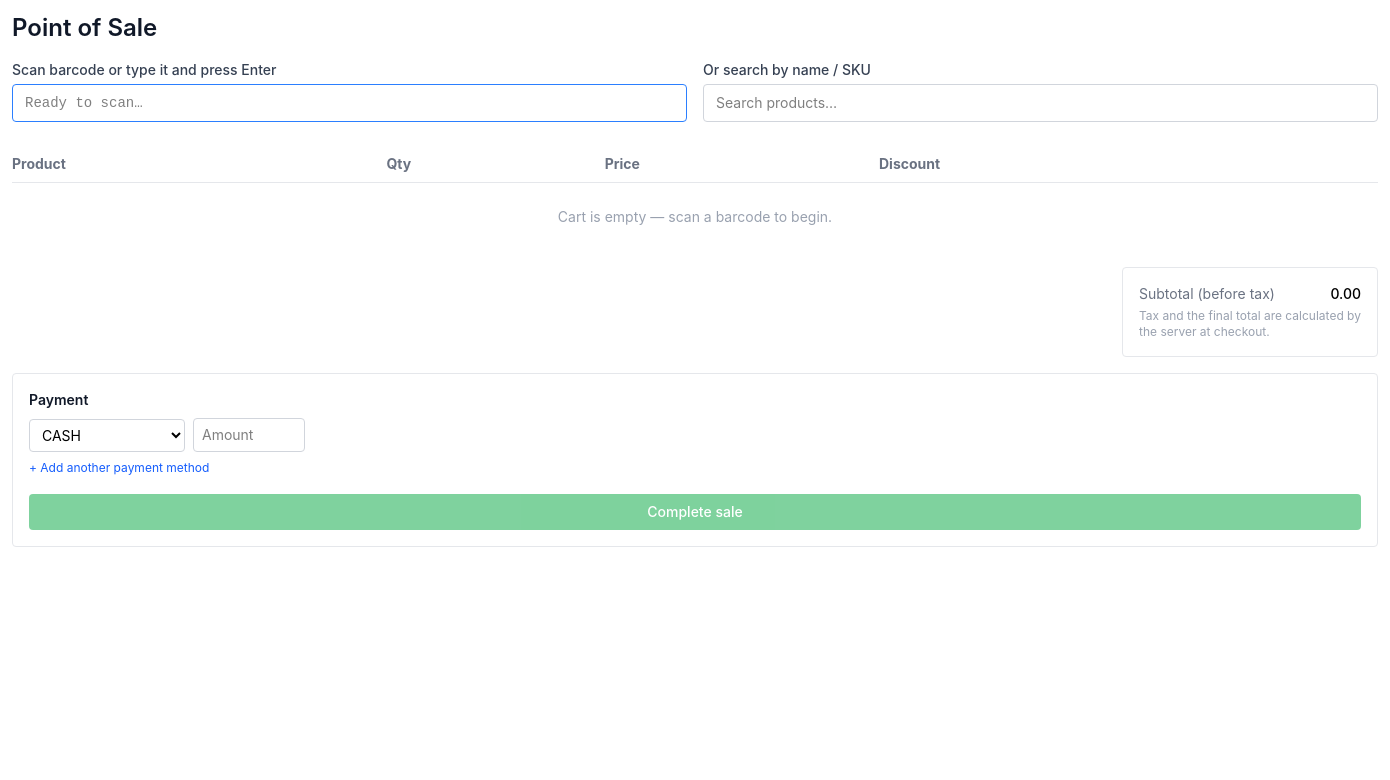
Test: PosPage › completes checkout and shows a receipt
The width and height of the screenshot is (1390, 780).
In the field with placeholder "Ready to scan…": [350, 103] box [12,84,687,122], type "333"
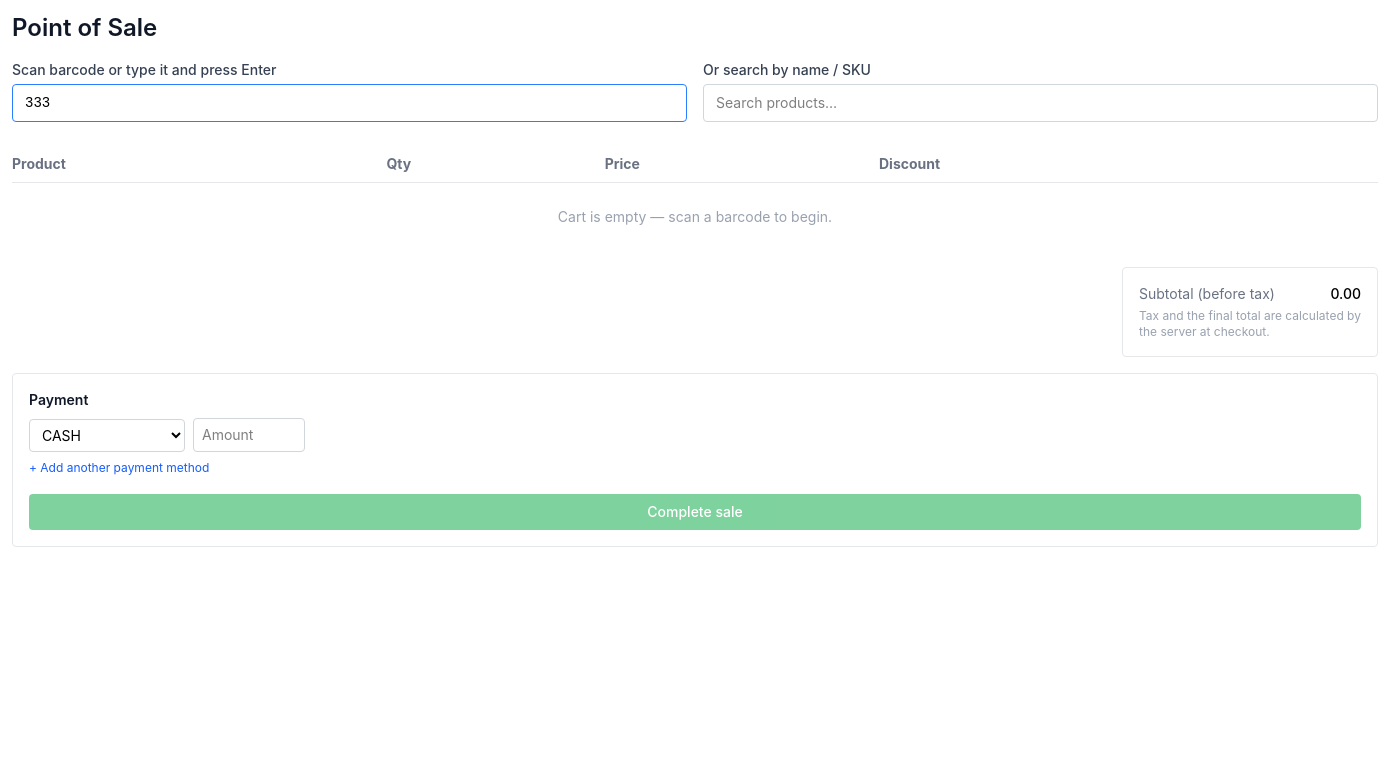
Press Enter in the field with placeholder "Ready to scan…", box [12,84,687,122]
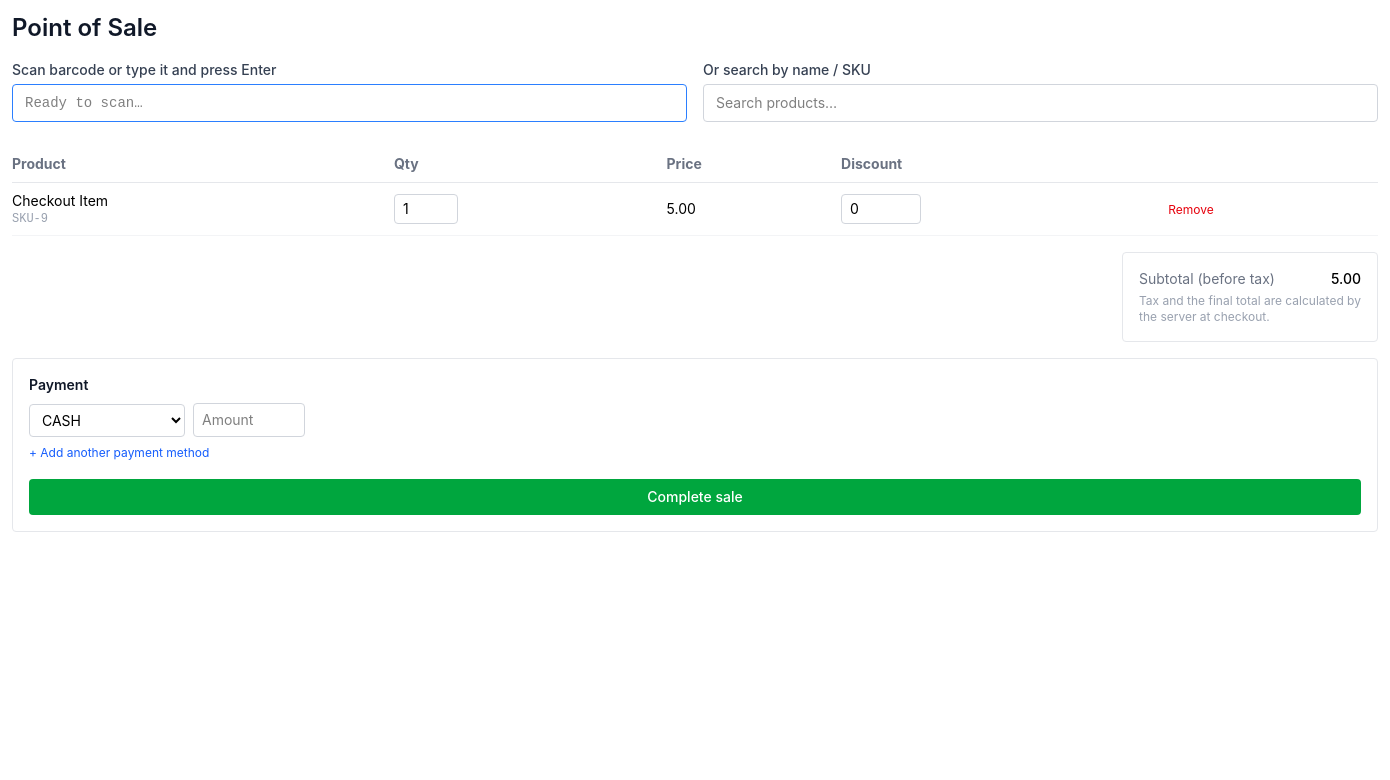
Expected: the text "Checkout Item" is shown, [12,192,108,209]
In the field with placeholder "Amount": [249, 420] box [193,403,305,437], type "5.00"
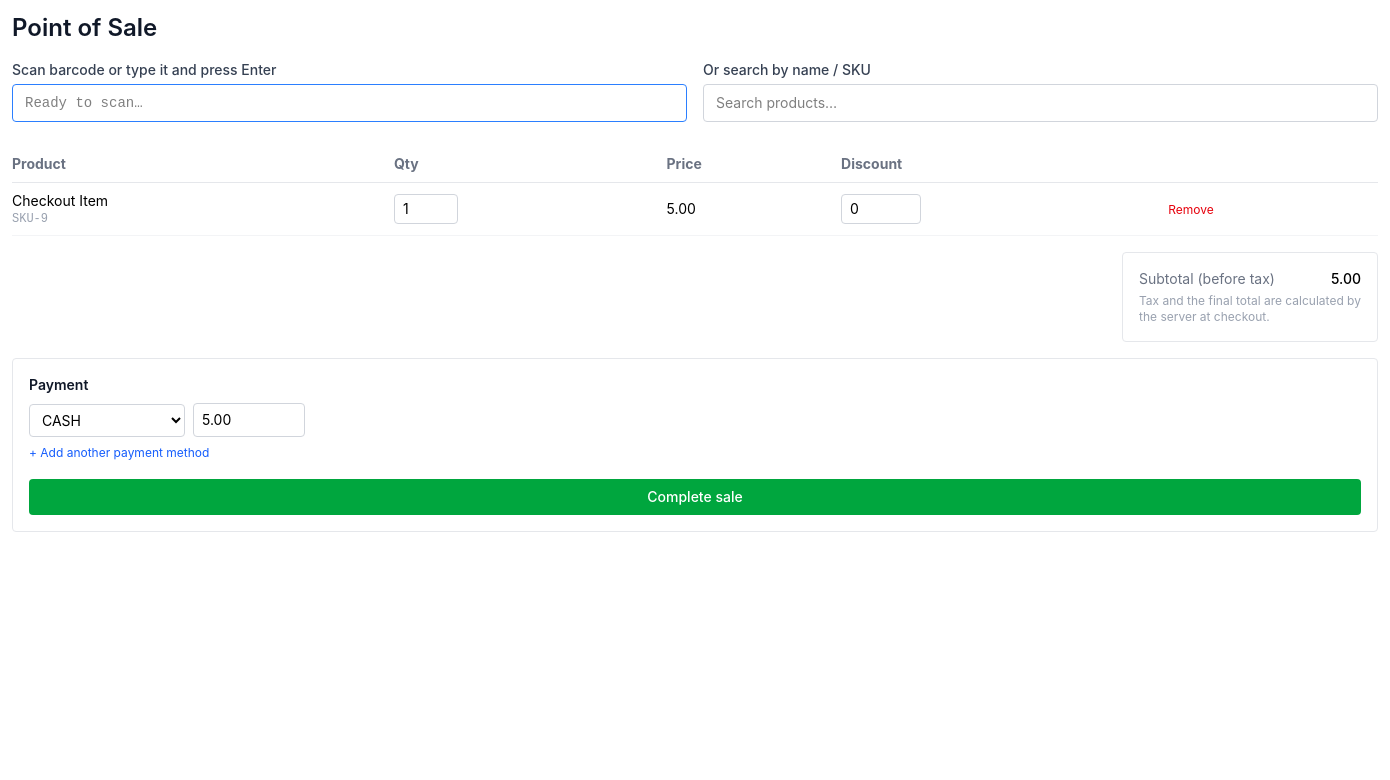
Click the button "Complete sale": [695, 497] box [29,479,1361,515]
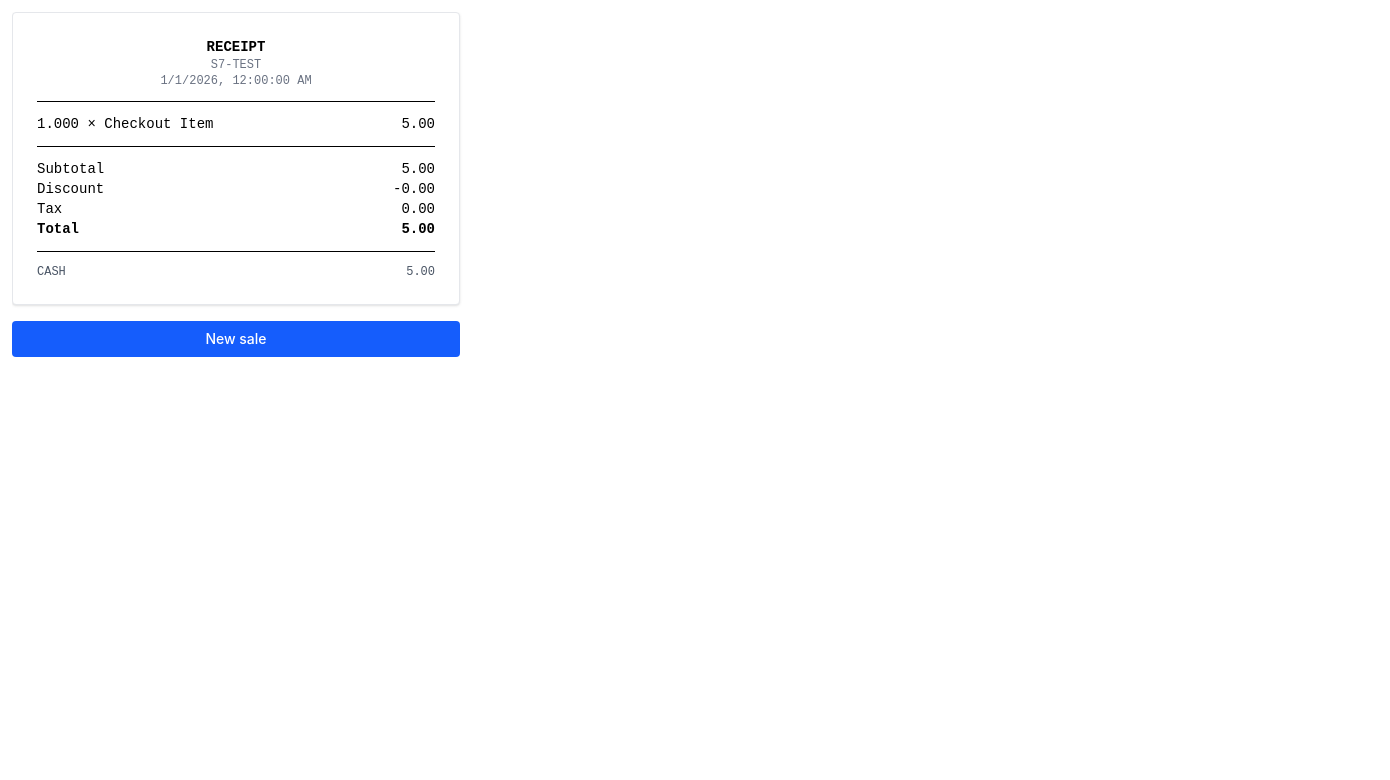
Expected: the text "RECEIPT" is shown, [207,39,265,55]
Expected: the text "S7-TEST" is shown, [211,58,261,72]
